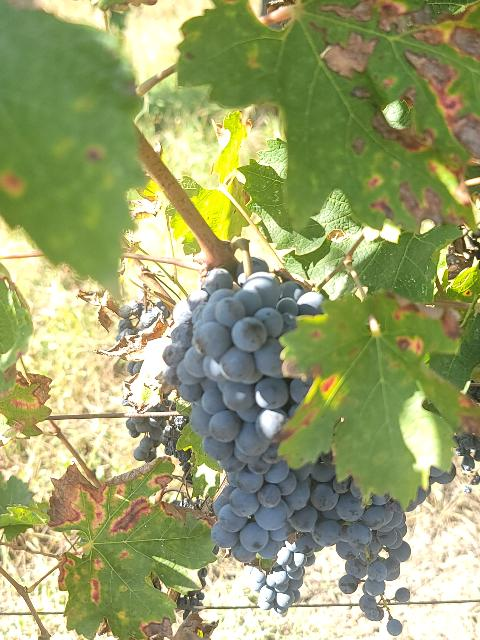grapes: (162, 262, 320, 484), (211, 460, 339, 562), (334, 484, 411, 636)
